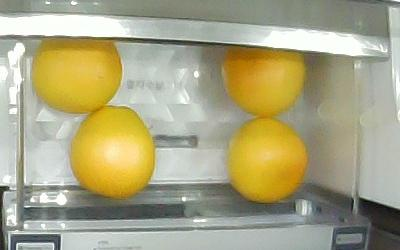grapefruit: (70, 106, 156, 200), (227, 117, 308, 203), (31, 39, 122, 113), (222, 44, 306, 116)
